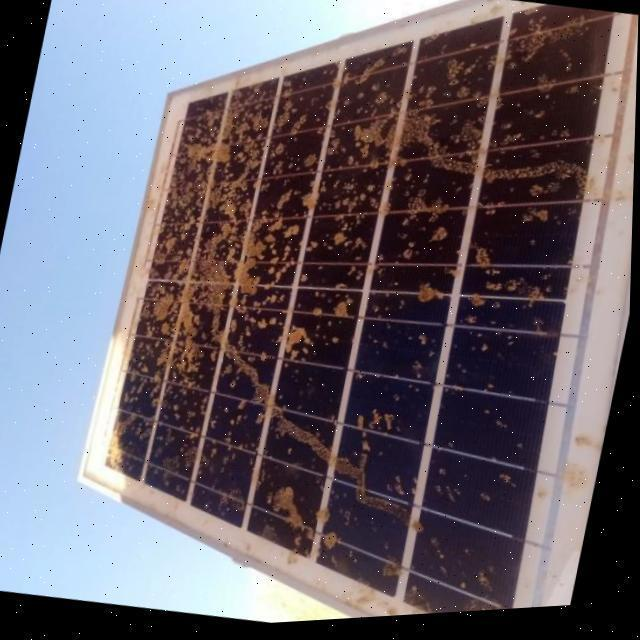Surface Contaminant: (148, 82, 596, 372), (106, 272, 572, 548), (416, 0, 616, 144), (322, 514, 534, 624)
